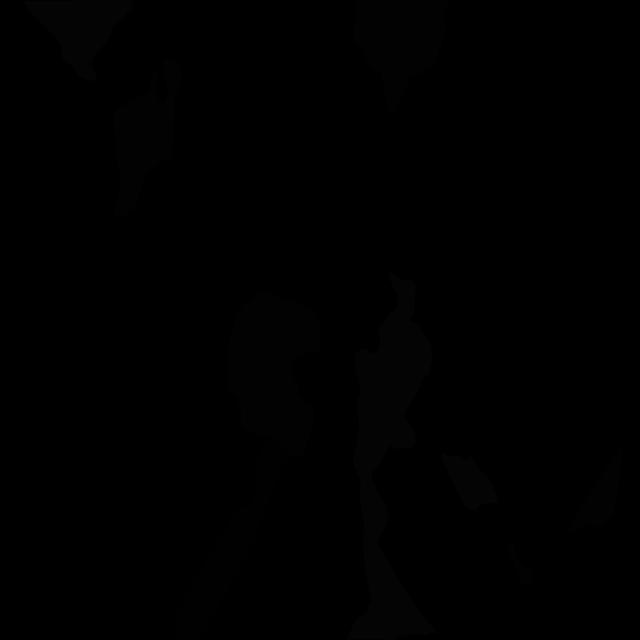cardboard: (228, 291, 321, 457), (113, 59, 183, 218), (353, 0, 450, 113), (563, 446, 622, 538), (506, 540, 532, 585)
rigid_plastic: (174, 437, 289, 640)
soft_plastic: (346, 273, 438, 640), (22, 0, 133, 81), (441, 453, 499, 511)
